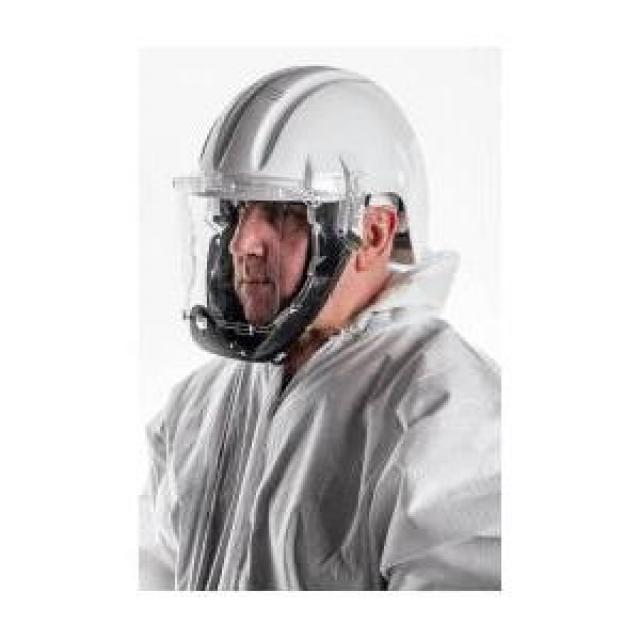Safety-Helmet: (179, 60, 461, 222)
